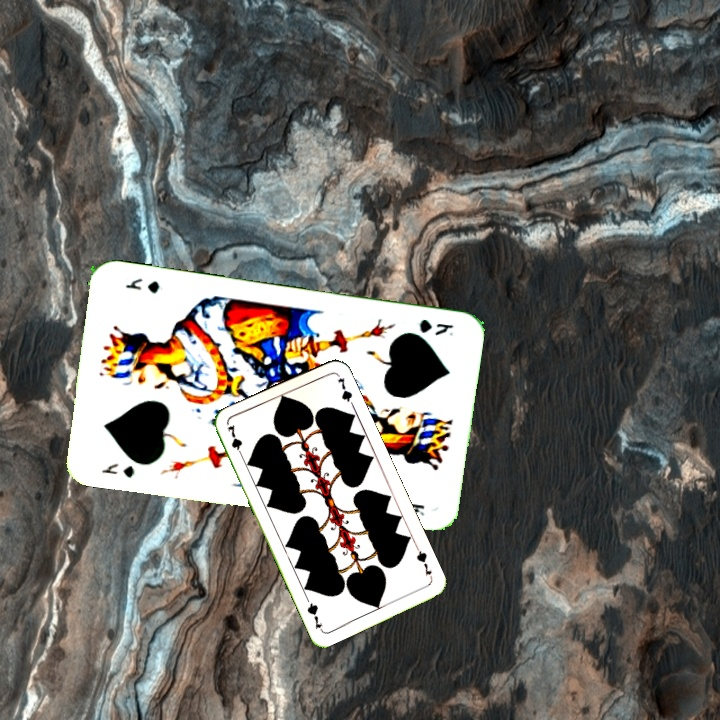G7: (223, 421, 246, 461), (412, 543, 435, 578)
GK: (415, 315, 456, 339), (97, 459, 137, 480)
